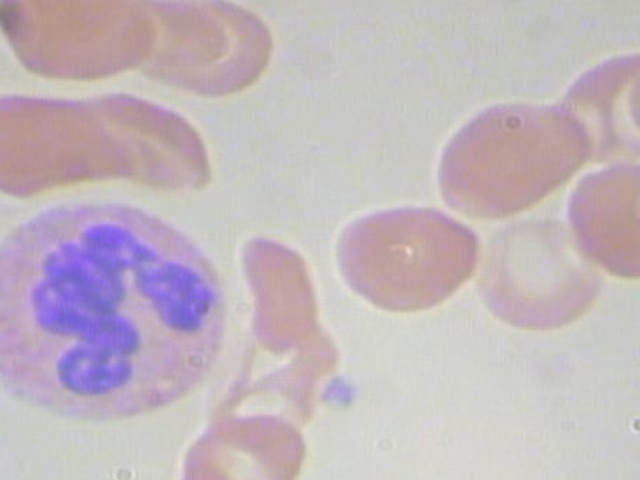Platelets: (313, 372, 374, 419)
RBC: (426, 93, 595, 226), (429, 90, 597, 223), (320, 201, 484, 312), (475, 216, 606, 333), (70, 86, 217, 189), (151, 0, 285, 95), (0, 82, 104, 202), (230, 230, 326, 355), (172, 407, 319, 480), (554, 153, 640, 276), (0, 0, 140, 65), (626, 44, 640, 153)
WBC: (0, 190, 242, 431)
